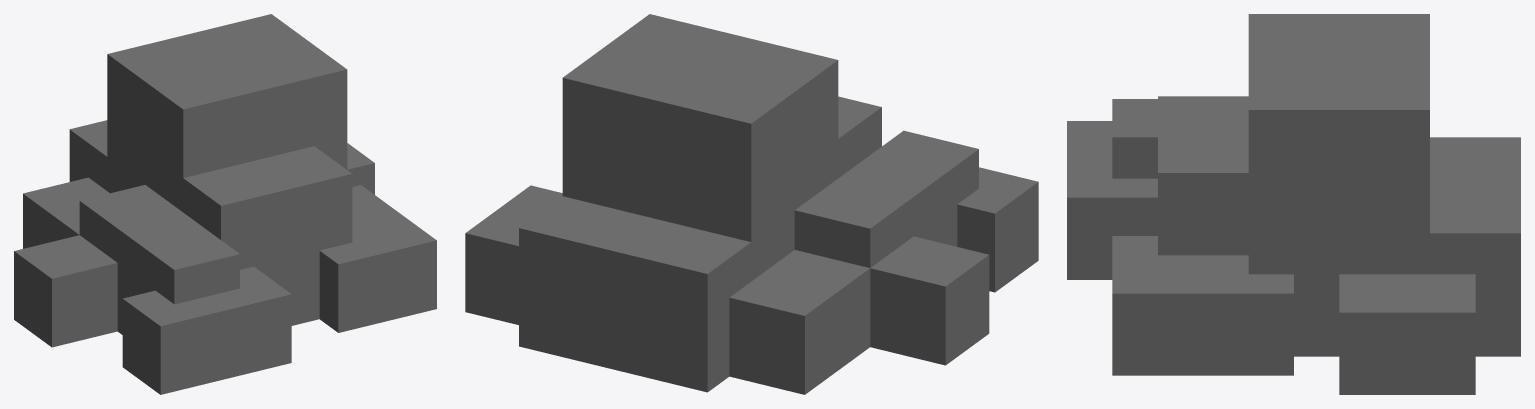
The model's file is rocks-2-rock1.obj.
The picture shows the model from 3 angles, left to right: view 1: azimuth 30°, elevation 25°; view 2: azimuth 150°, elevation 25°; view 3: azimuth 270°, elevation 25°; orthographic projection. The views are drawn at different scales.
Visible parts, largest first — view 1: rock1; view 2: rock1; view 3: rock1.
Boxes of the visible parts, bbox=[...] form: rock1: bbox=[14, 14, 436, 394]; rock1: bbox=[465, 14, 1038, 394]; rock1: bbox=[1067, 14, 1520, 394].
Bounding box in the file's own units: 1.1 × 0.6 × 1.
Materials: 1 (1 with a texture image).
